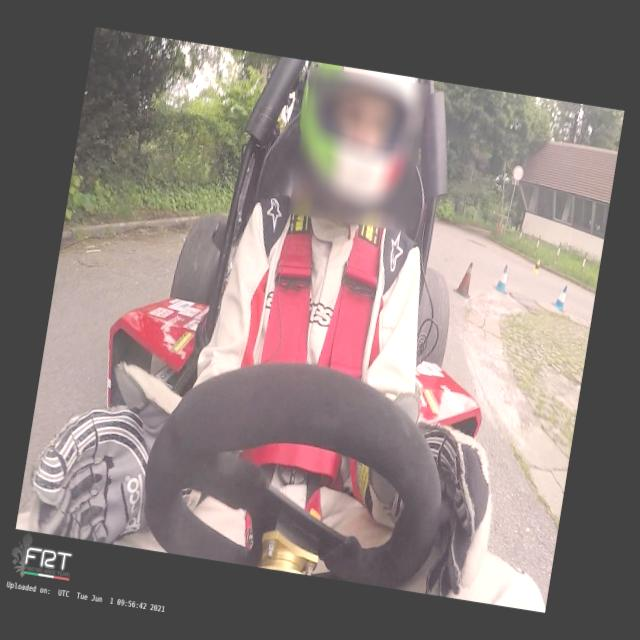blue_cone: (492, 264, 510, 294), (551, 284, 567, 310)
unknown_cone: (452, 260, 476, 300)
yellow_cone: (532, 258, 540, 274)
